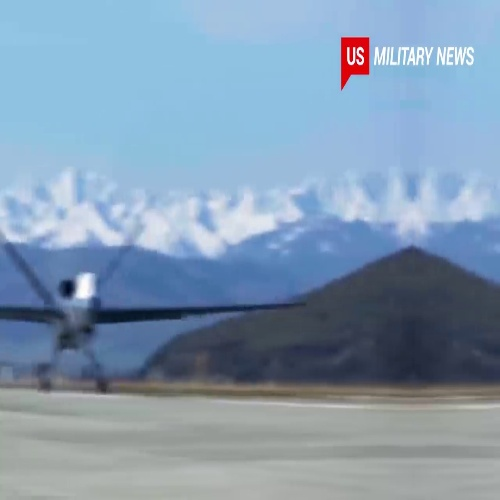uav: (2, 220, 305, 394)
